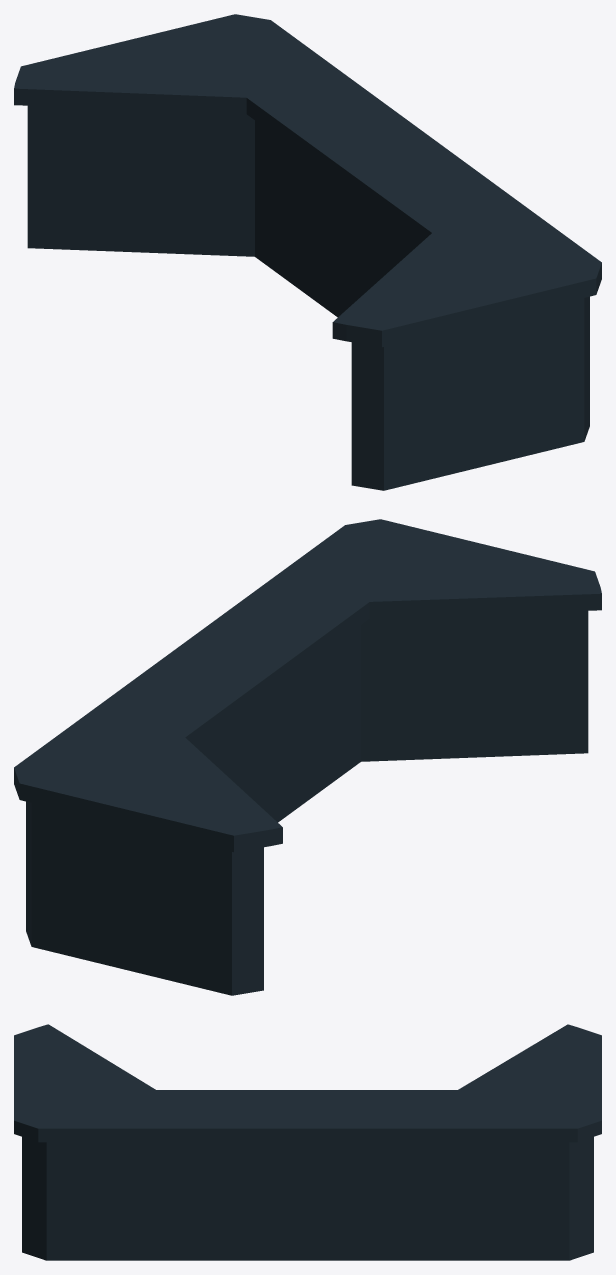
Rendered from holographicTable.glb.
The picture shows the model from 3 angles, top to bottom: view 1: azimuth 30°, elevation 25°; view 2: azimuth 150°, elevation 25°; view 3: azimuth 270°, elevation 25°; orthographic projection. The views are drawn at different scales.
Visible parts, largest first — view 1: HolograpicTable; view 2: HolograpicTable; view 3: HolograpicTable.
Boxes of the visible parts, box(x1,y1,x2,y2) form: HolograpicTable: box(14, 14, 601, 490); HolograpicTable: box(14, 519, 601, 995); HolograpicTable: box(14, 1024, 601, 1260).
Size of the model in its own units: 6.06 by 3.64 by 14.4.
